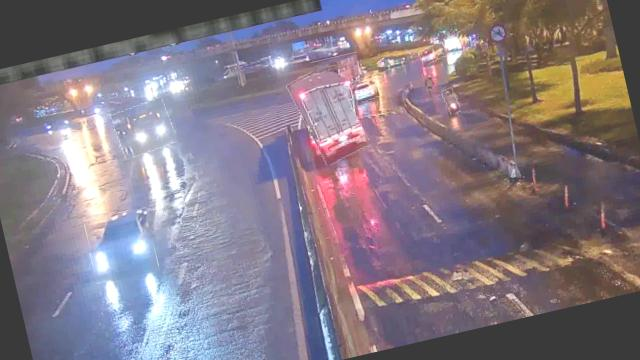Bike: (442, 88, 461, 115), (422, 72, 436, 94)
Car: (83, 206, 160, 284), (349, 75, 381, 104), (418, 42, 448, 65)
Truck: (290, 61, 368, 168), (110, 98, 178, 160), (311, 52, 364, 91)
